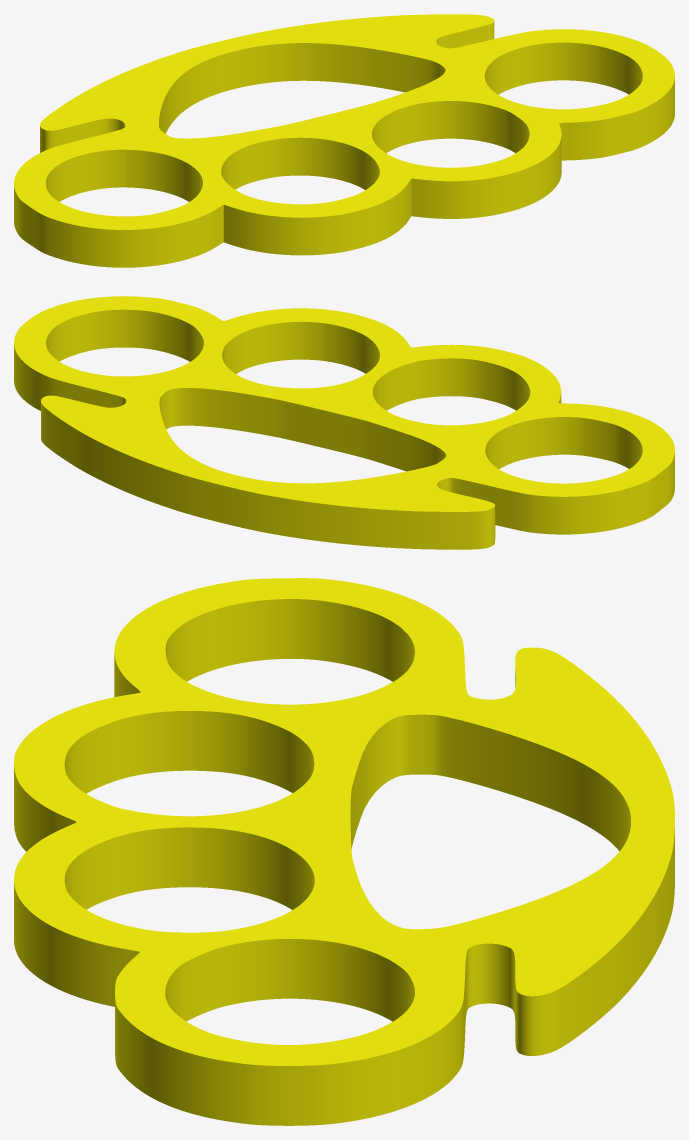
The model's file is jurenshashou.fbx.
3 renders of one model, top to bottom at view 1: azimuth 30°, elevation 25°; view 2: azimuth 150°, elevation 25°; view 3: azimuth 270°, elevation 25°, orthographic. The views are drawn at different scales.
Parts seen in each view (by area): view 1: Curve.001; view 2: Curve.001; view 3: Curve.001.
Part boxes in pixels (x1,y1,x2,y2): Curve.001: (14, 14, 674, 267); Curve.001: (14, 296, 674, 549); Curve.001: (14, 578, 674, 1125).
Bounding box in the file's own units: 16.32 × 0.9331 × 9.34.
